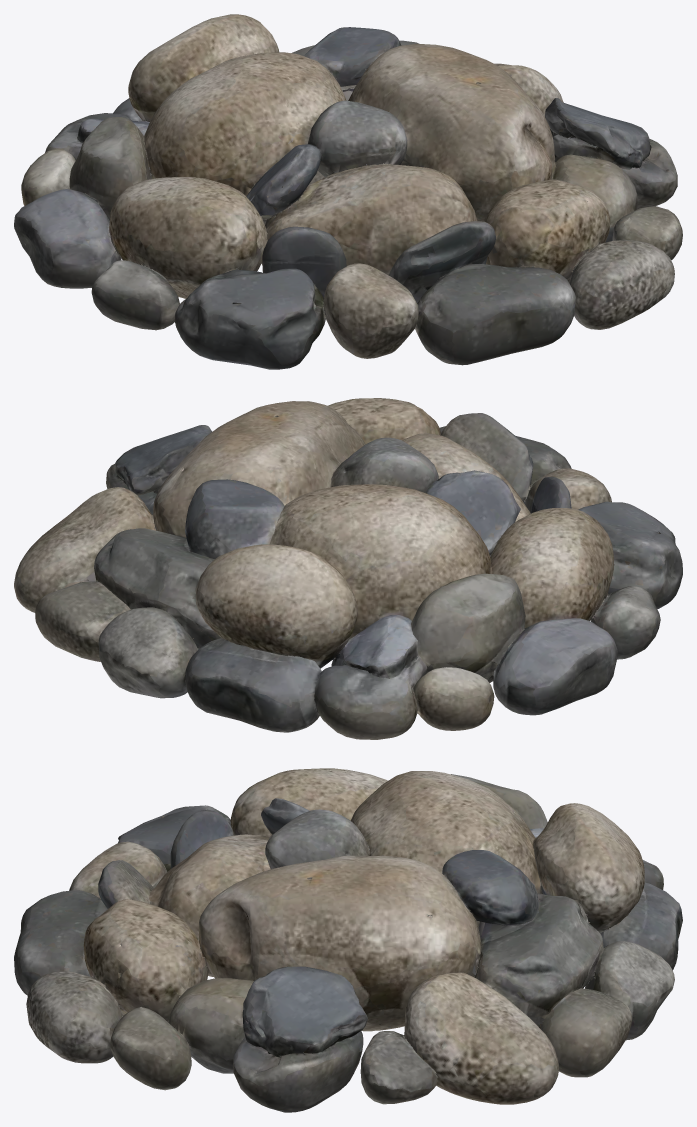
The model's file is river-gravel-v5.glb.
3 renders of one model, top to bottom at view 1: azimuth 30°, elevation 25°; view 2: azimuth 150°, elevation 25°; view 3: azimuth 270°, elevation 25°, orthographic. The views are drawn at different scales.
Visible parts, largest first — view 1: geometry_0; view 2: geometry_0; view 3: geometry_0.
Part boxes in pixels (x1=…): geometry_0: x1=14, y1=14, x2=682, y2=369; geometry_0: x1=14, y1=398, x2=682, y2=739; geometry_0: x1=14, y1=768, x2=682, y2=1112.
Size of the model in its own units: 0.3498 by 0.0973 by 0.3495.
Materials: 1 (1 with a texture image).
